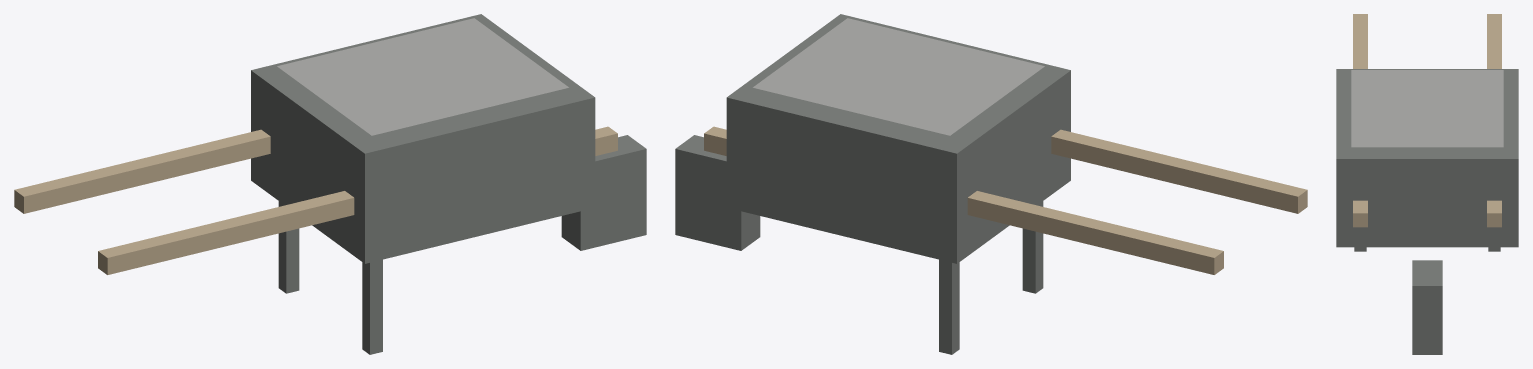
The model's file is carrinho_de_mao.glb.
The picture shows the model from 3 angles, left to right: view 1: azimuth 30°, elevation 25°; view 2: azimuth 150°, elevation 25°; view 3: azimuth 270°, elevation 25°; orthographic projection. The views are drawn at different scales.
Parts seen in each view (by area): view 1: Malha_0; view 2: Malha_0; view 3: Malha_0.
Boxes of the visible parts, x1,y1,x2,y2 form: Malha_0: [14, 14, 646, 354]; Malha_0: [675, 14, 1307, 354]; Malha_0: [1336, 14, 1518, 354].
Size of the model in its own units: 1.75 by 0.64 by 0.6.
